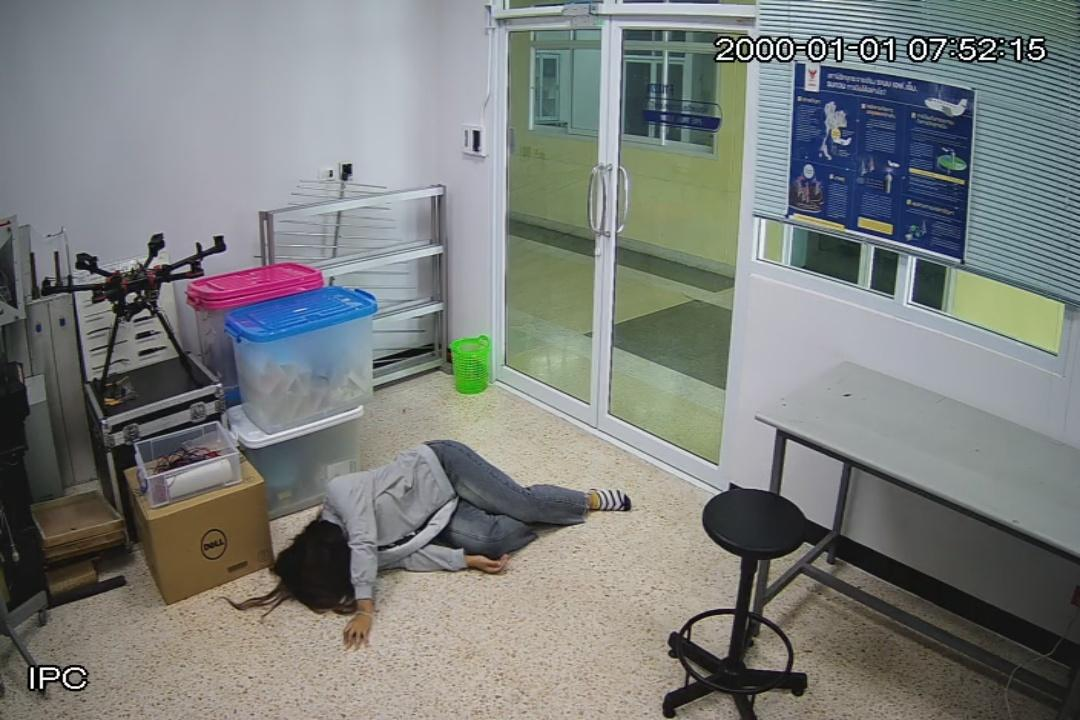fall: (265, 438, 640, 651)
